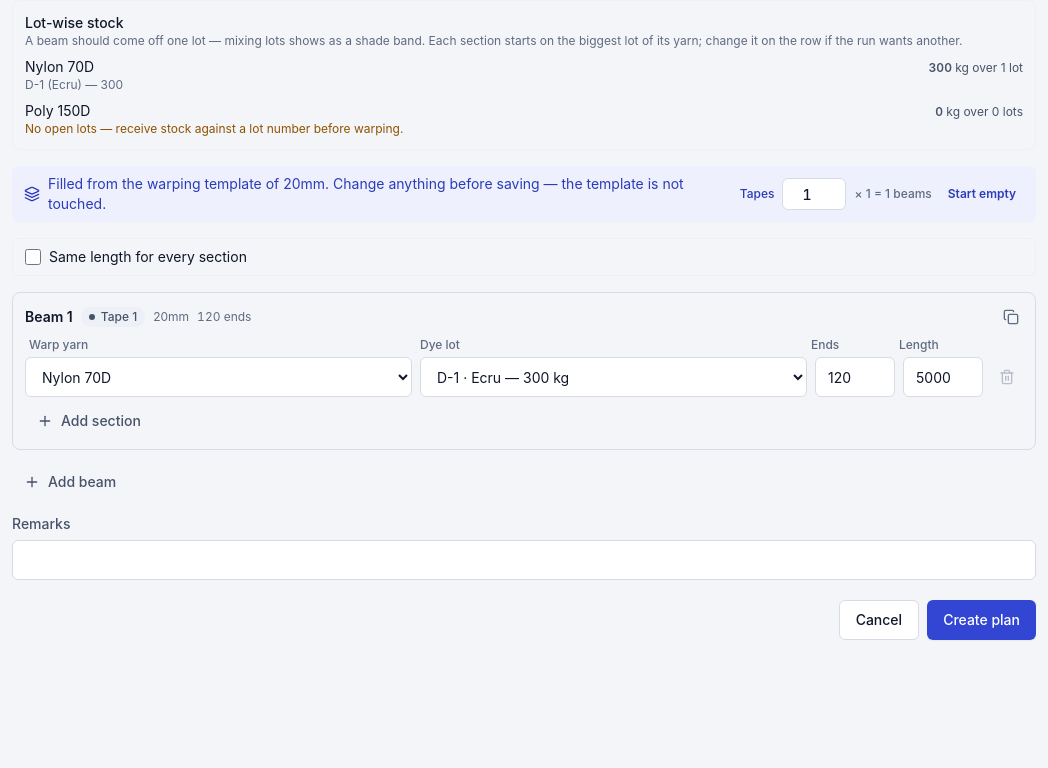
Test: when the yarn on the row changes › clears the stale lot when the new yarn has none
Expected: the dropdown named "Dye lot" shows "D-1 · Ecru — 300 kg", top-left (420, 357), bottom-right (807, 397)
Select "Poly 150D" in the dropdown named "Warp yarn" at [218, 377], box top-left (25, 357), bottom-right (412, 397)
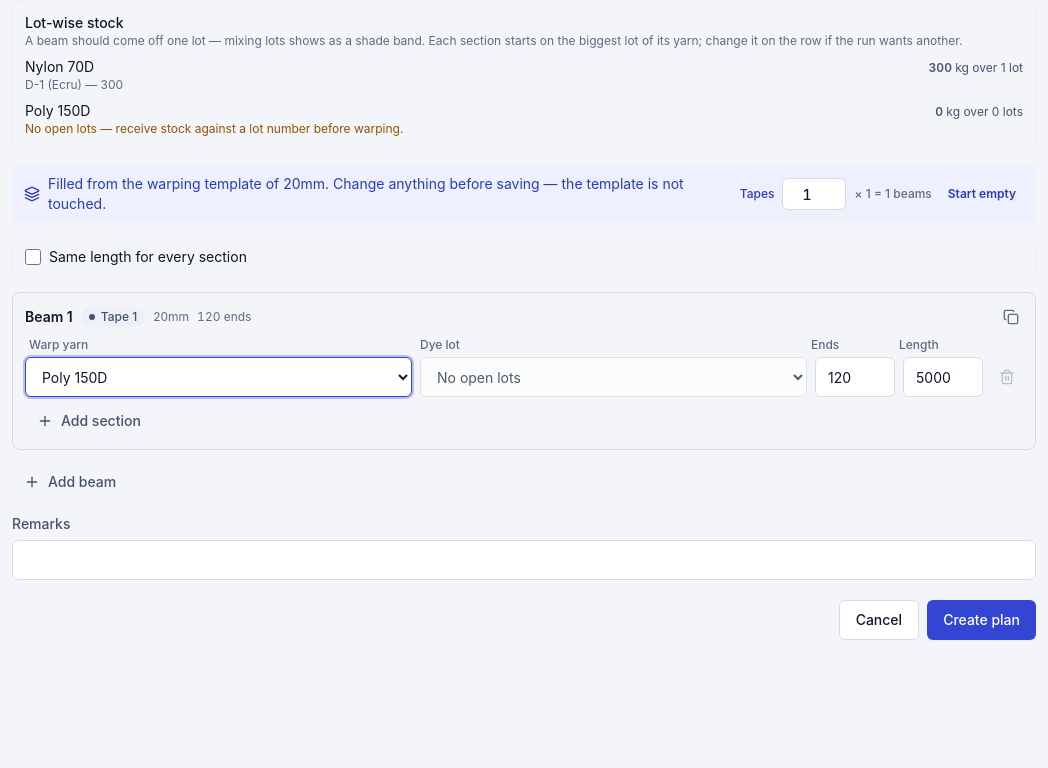
Result: the dropdown named "Dye lot" shows "No open lots" at top-left (420, 357), bottom-right (807, 397)
